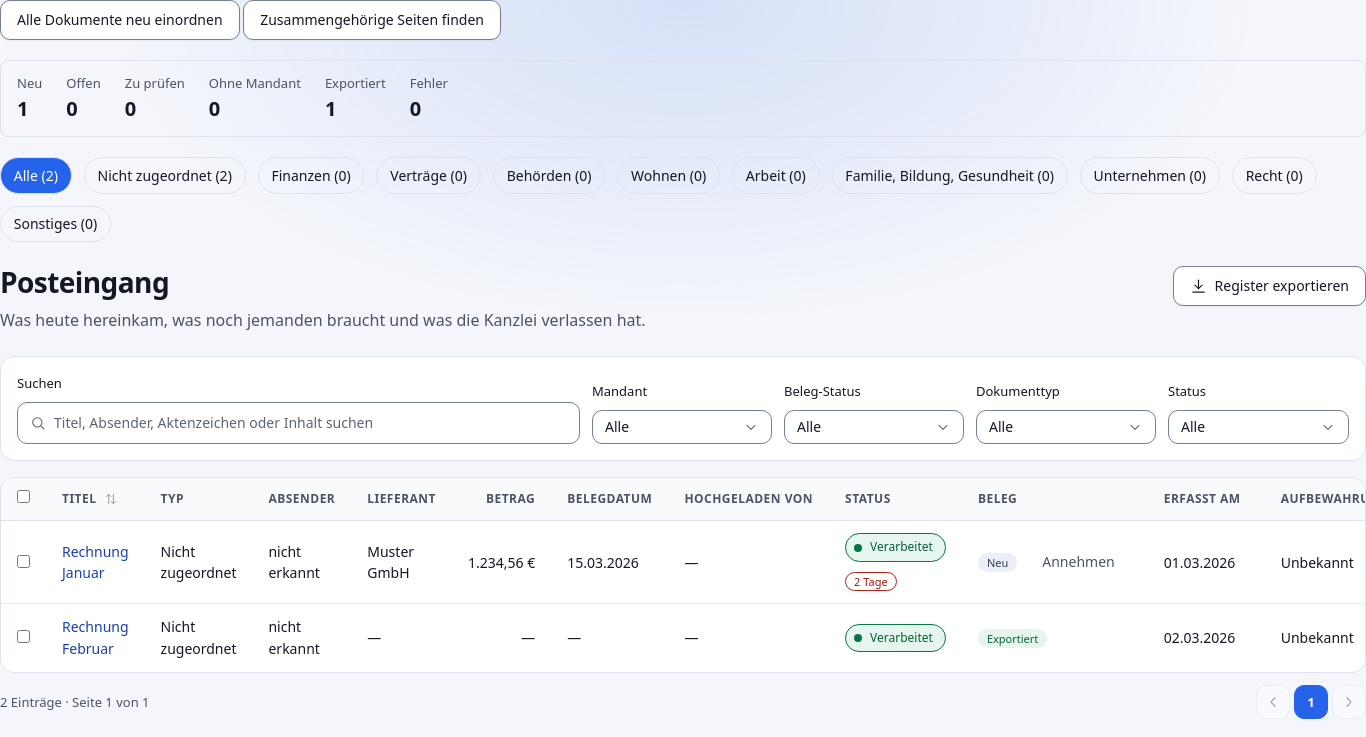
Test: Posteingang queue › assigns a client through a searchable dialog instead of a dropdown
The width and height of the screenshot is (1366, 737).
Expected: the link "Rechnung Januar" is shown, left=62, top=542, right=128, bottom=582
Click the checkbox named "Dokument auswählen: Rechnung Januar" at (24, 561), box left=17, top=554, right=30, bottom=568
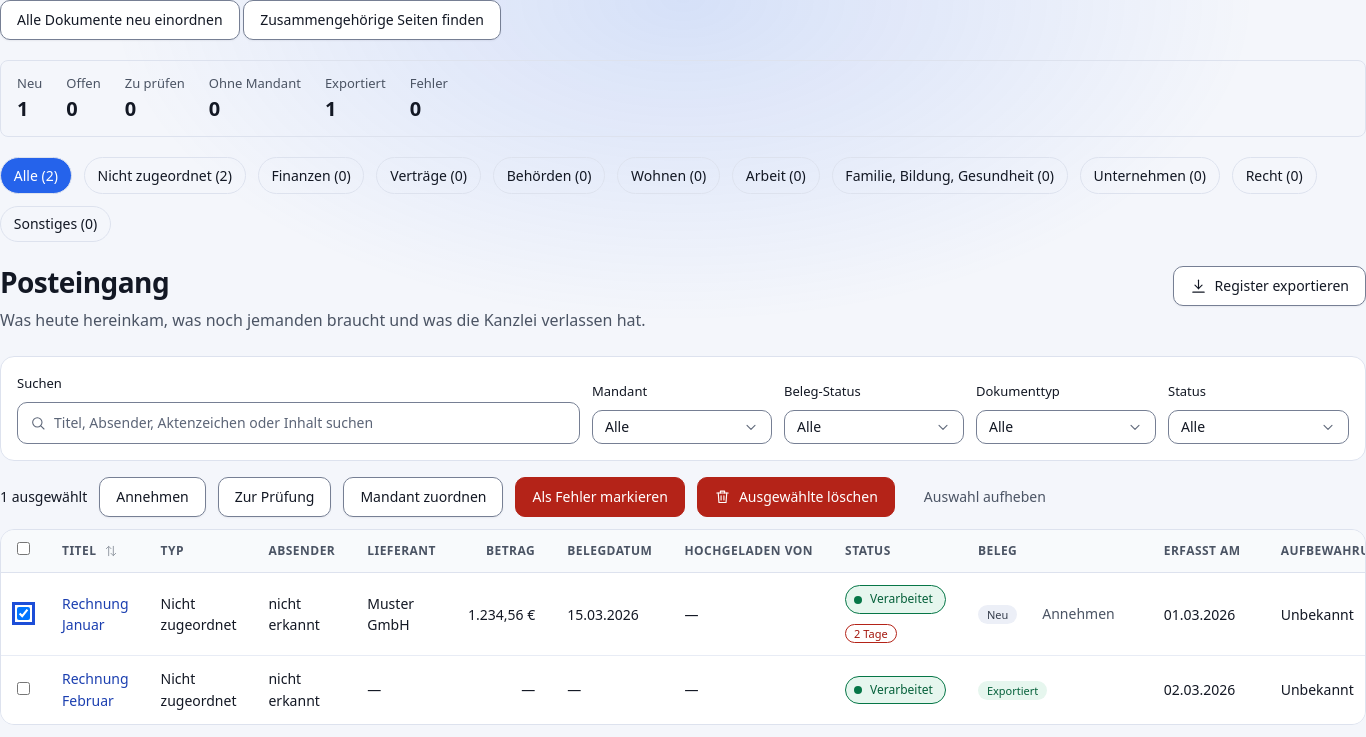
Click the button "Mandant zuordnen" at (423, 497), box left=343, top=477, right=503, bottom=517
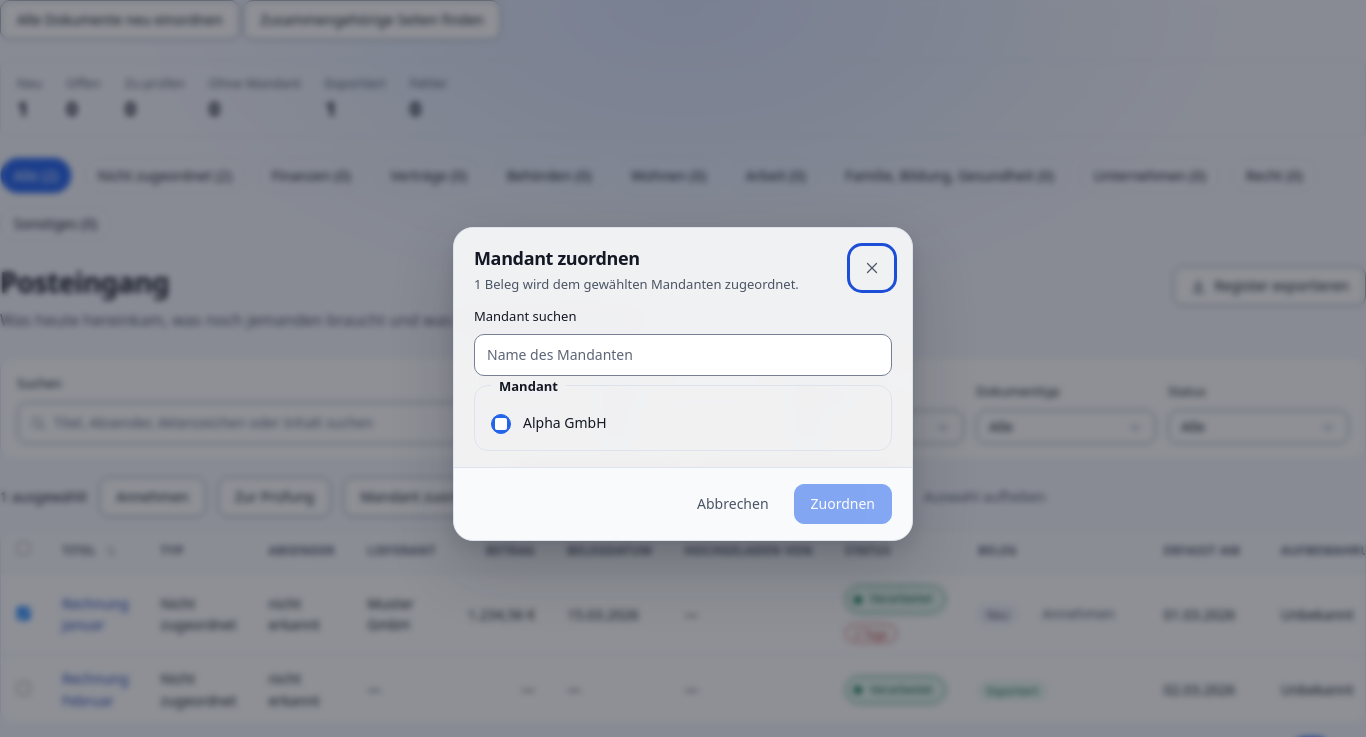
Type "Alp" into the field labelled "Mandant suchen" at (683, 355), box left=475, top=335, right=891, bottom=375
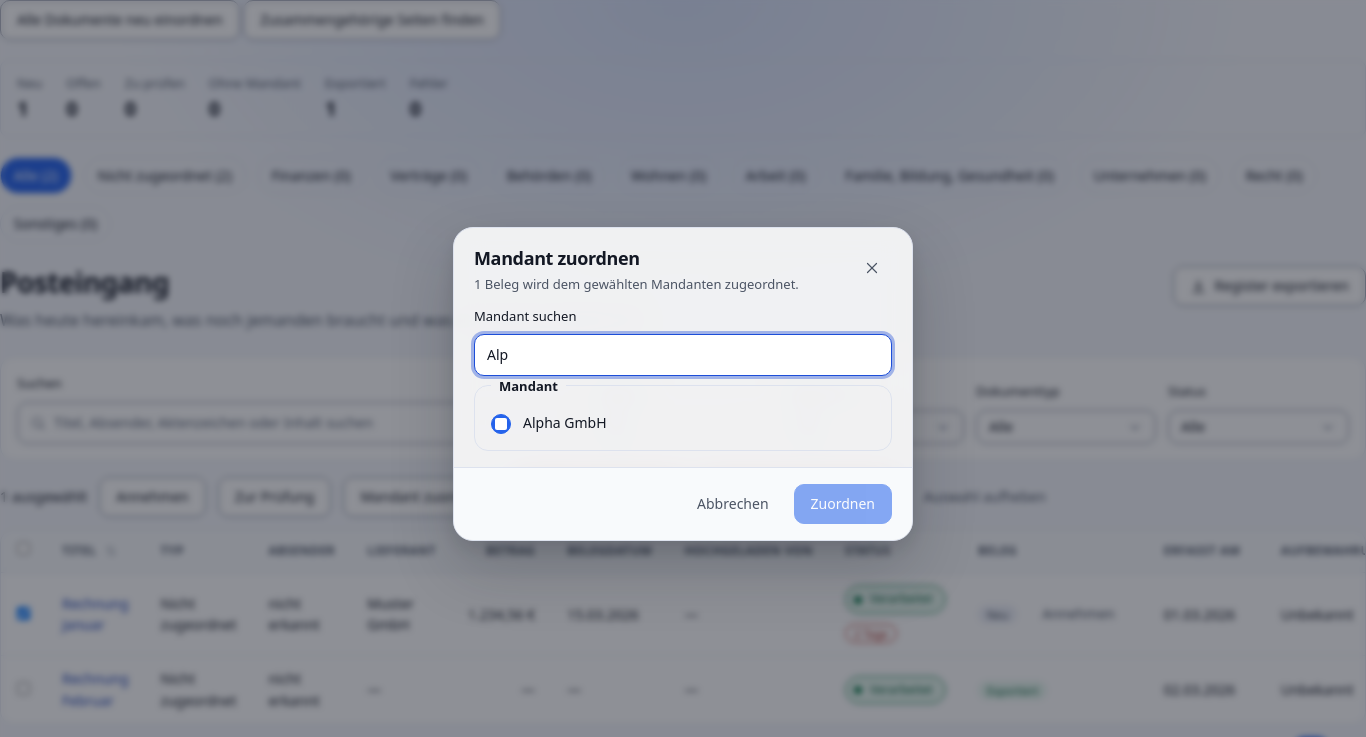
Click the radio button labelled "Alpha GmbH" at (501, 424), box left=491, top=414, right=511, bottom=434
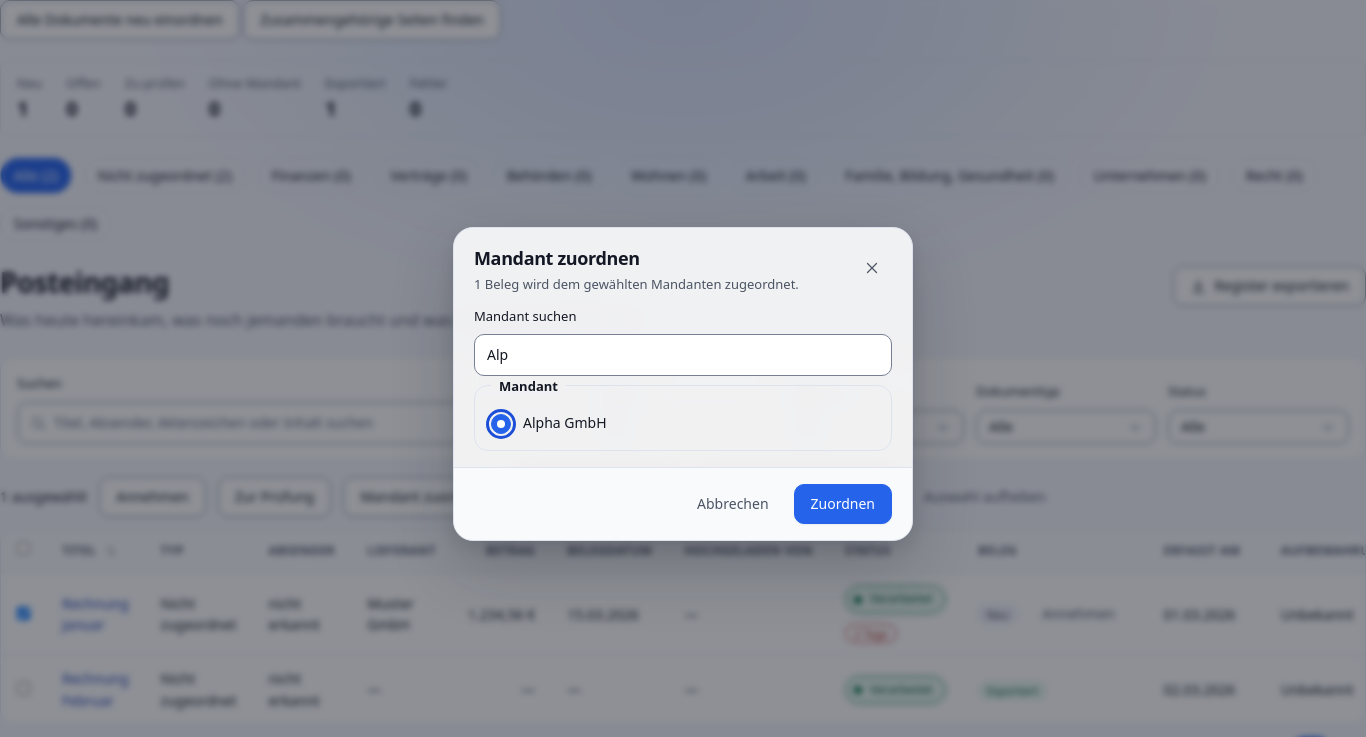
Click the button "Zuordnen" at (843, 504), box left=794, top=484, right=892, bottom=524
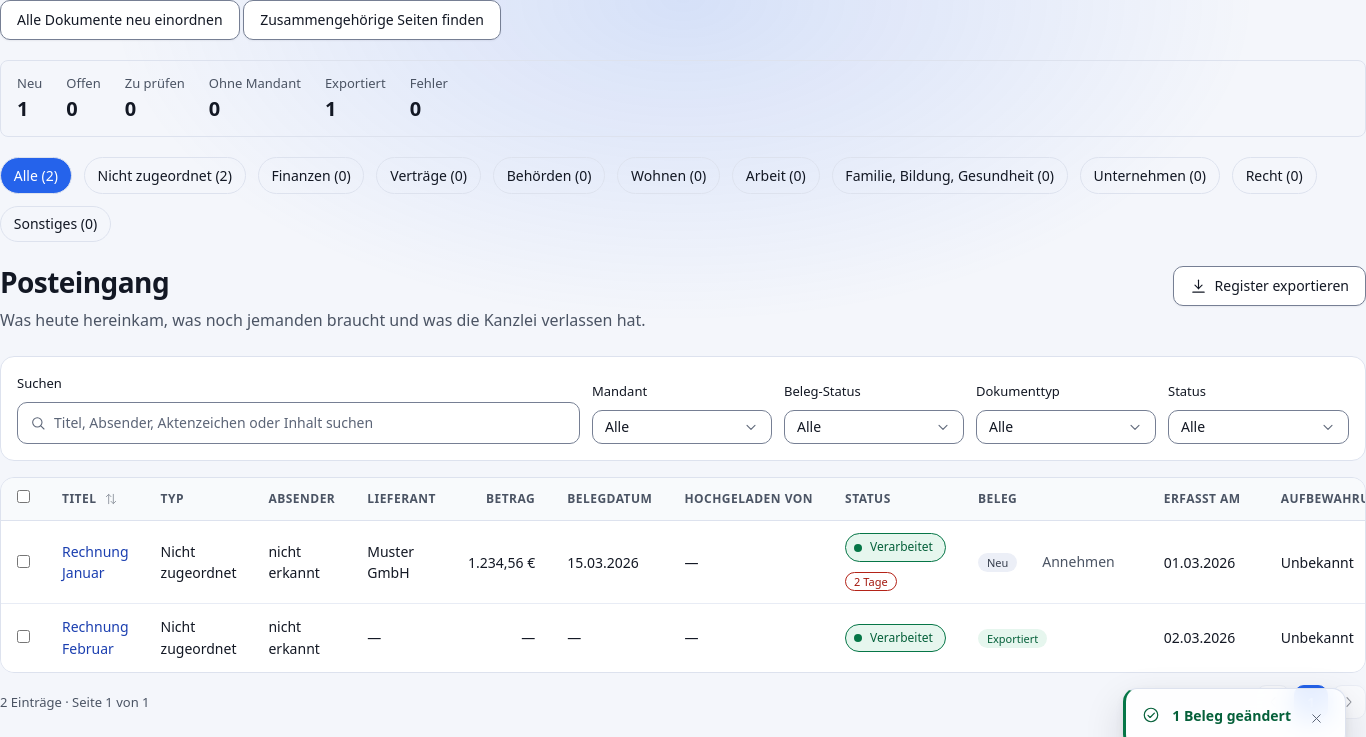
Expected: the text "1 Beleg geändert" is shown, left=1172, top=705, right=1291, bottom=727
